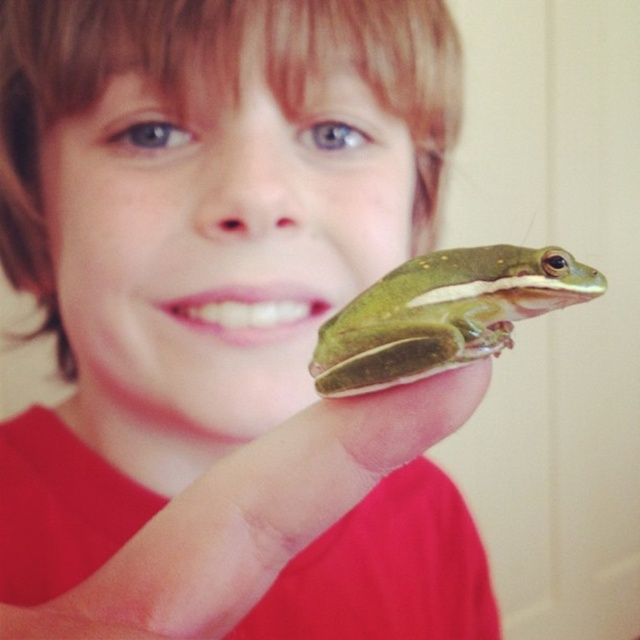Frog: (307, 246, 608, 397)
